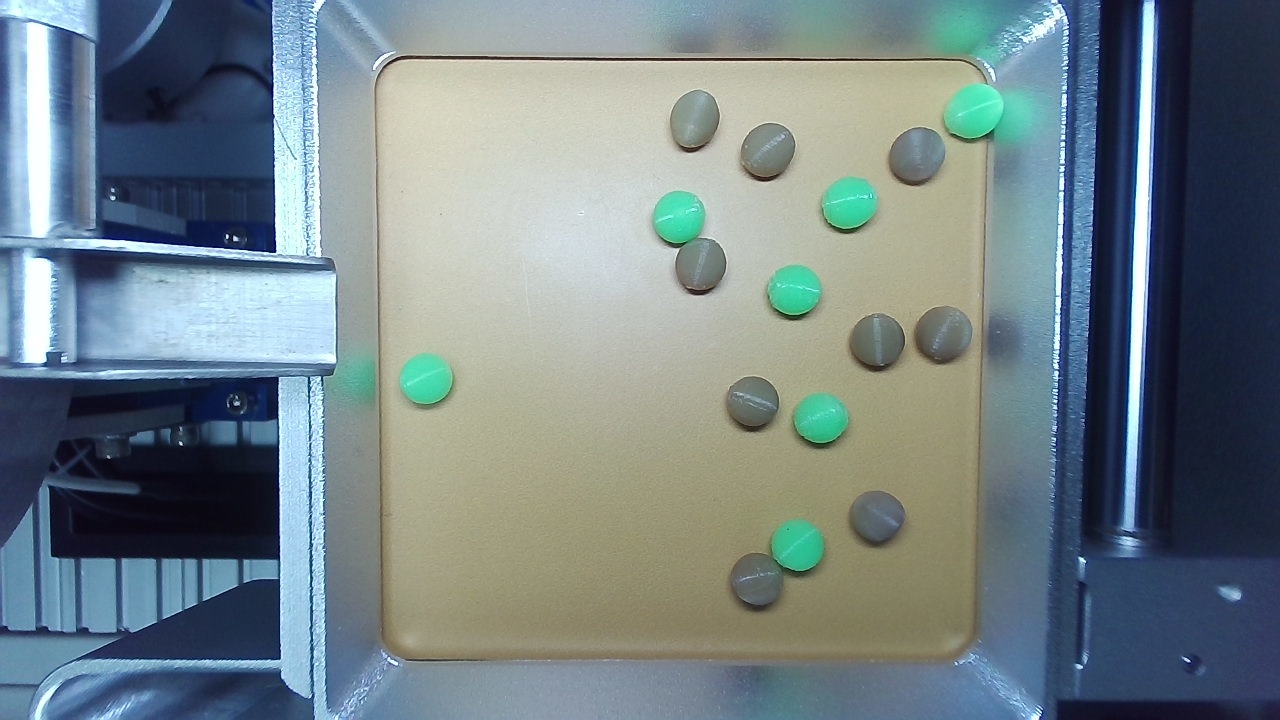XLabel: (441, 73, 508, 141)
YLabel: (870, 110, 950, 186)
none: (721, 243, 1067, 586)
transparenexcept: (156, 146, 611, 554)
